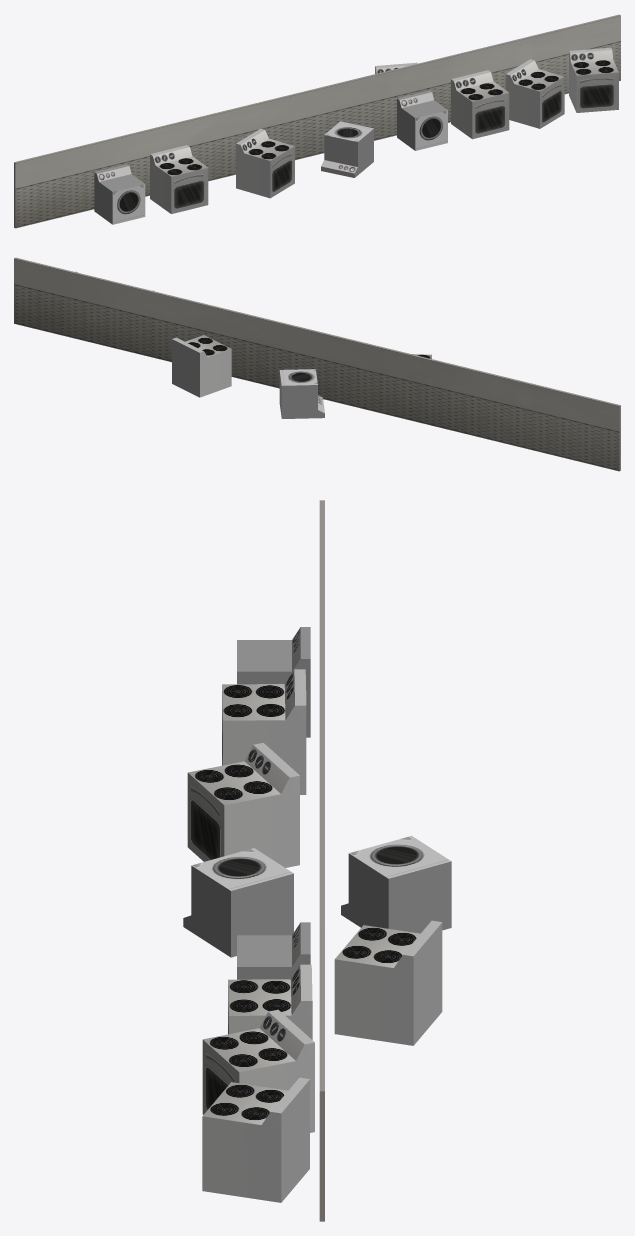
The model's file is Dishoveld_Stoves.fbx.
3 views of the same model, one above another, from view 1: azimuth 30°, elevation 25°; view 2: azimuth 150°, elevation 25°; view 3: azimuth 270°, elevation 25° (orthographic). The views are drawn at different scales.
Parts seen in each view (by area): view 1: polySurface3; view 2: polySurface3; view 3: polySurface3.
Boxes of the visible parts, x1,y1,x2,y2 form: polySurface3: (14, 14, 620, 228); polySurface3: (14, 257, 620, 471); polySurface3: (183, 500, 451, 1221).
Size of the model in its own units: 18.6 by 1.92 by 3.57.
